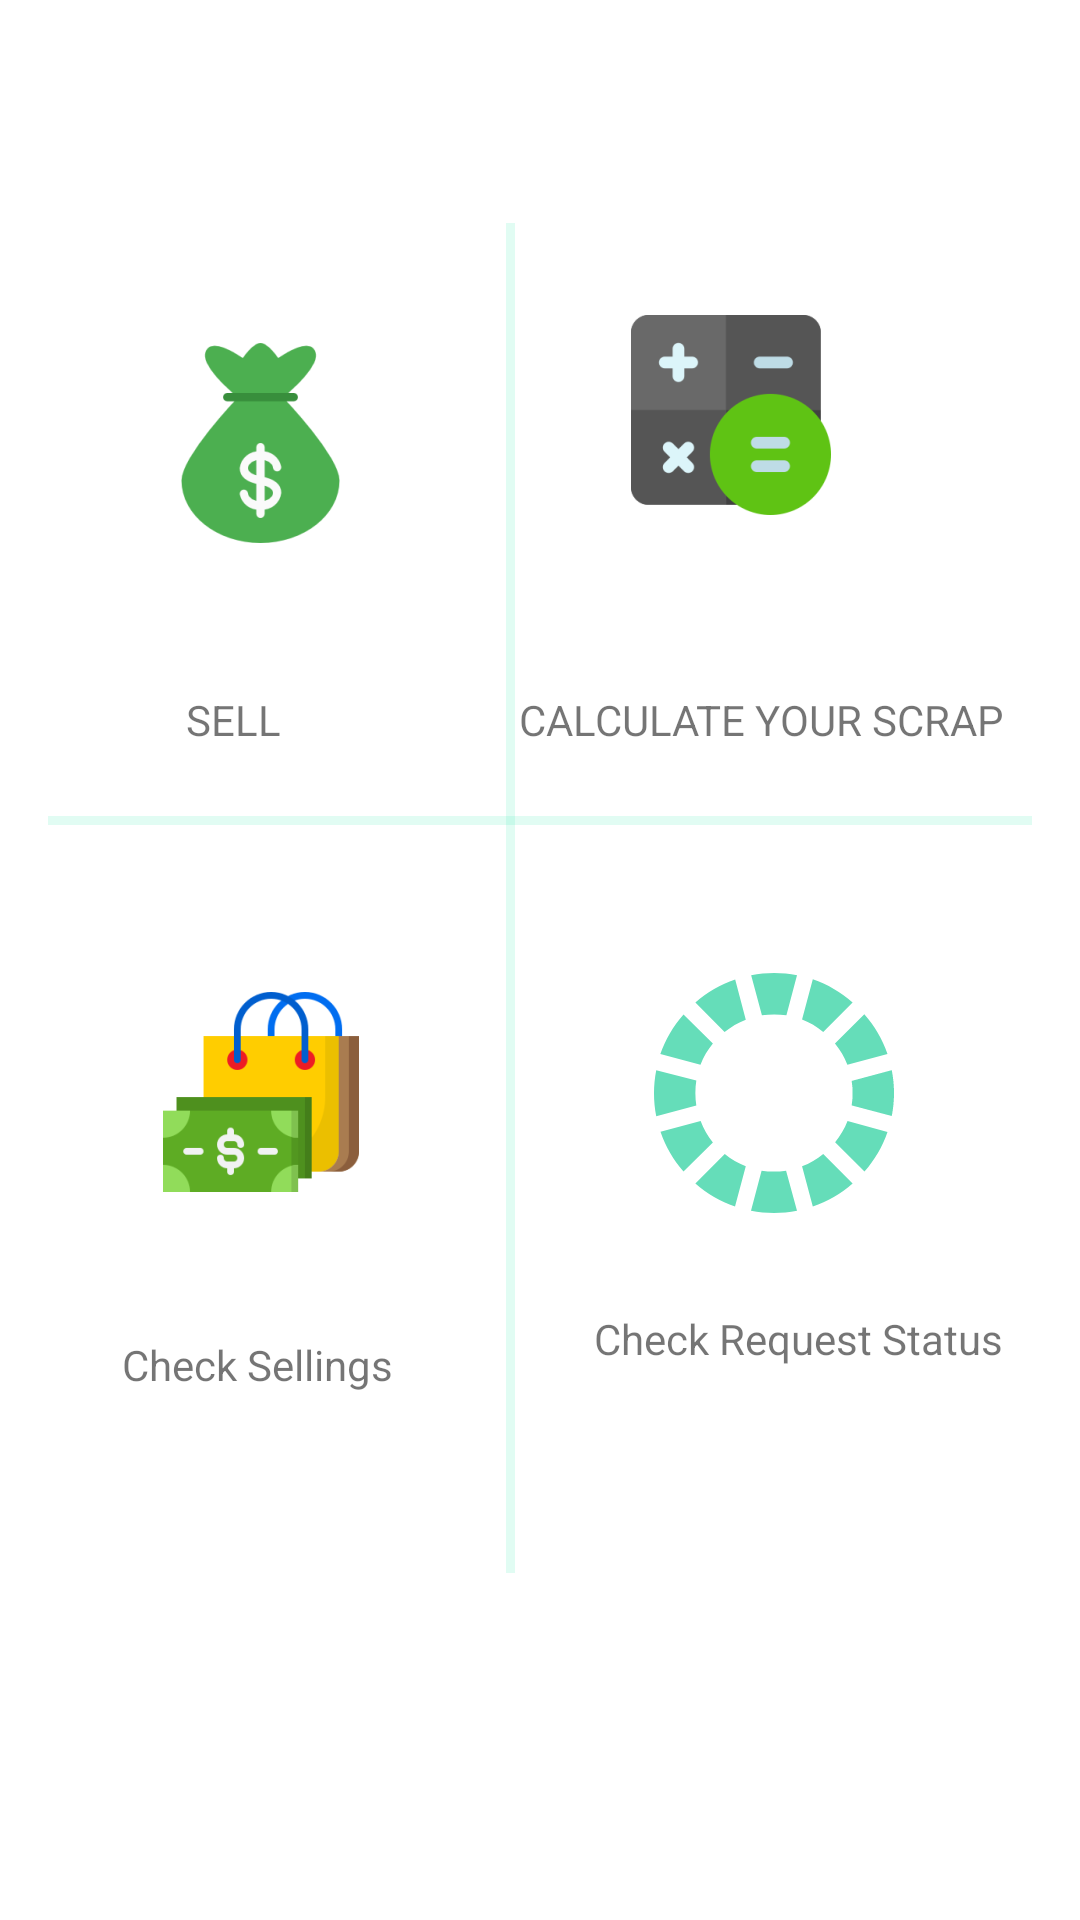

Where to tap for icons on this 1080×1920 app screen, as (x,y):
loader: (774,1093)
